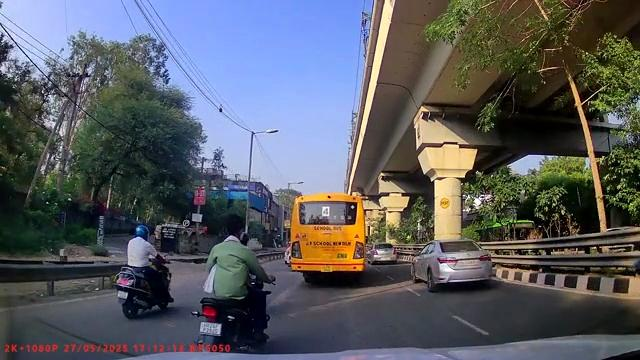motorcycle_with_helmet: (116, 221, 173, 319)
motorcycle_without_helmet: (197, 213, 271, 352)
